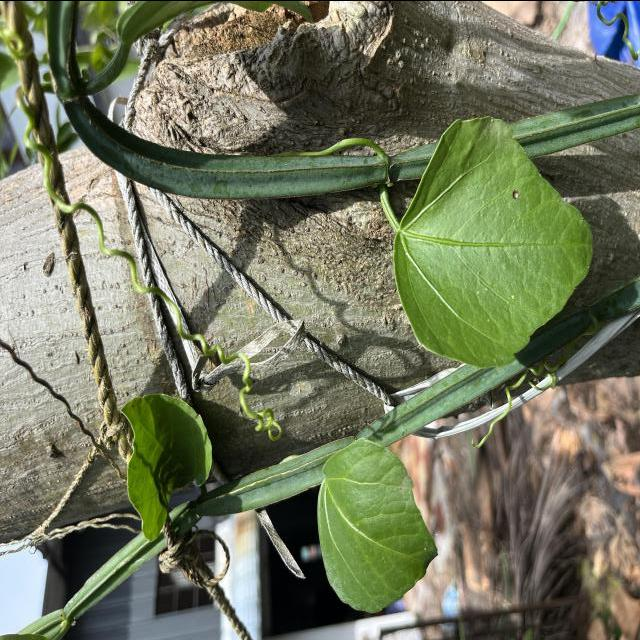Cissus quadrangularis: (389, 112, 596, 370), (316, 433, 442, 616)
